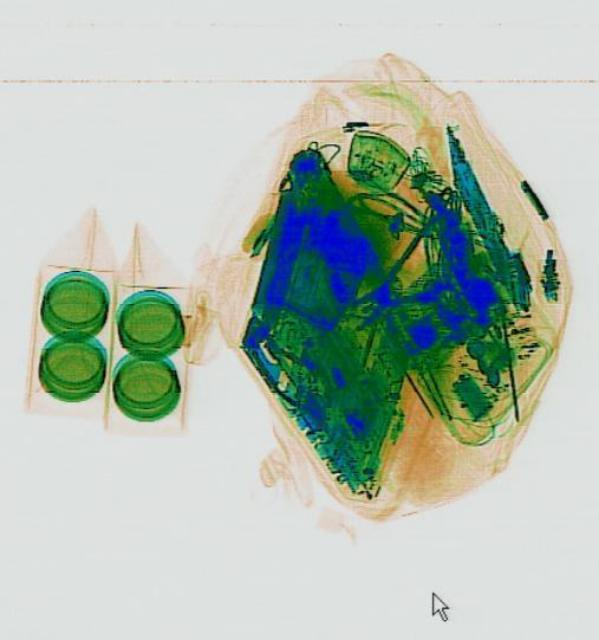Pliers: (324, 207, 477, 347)
